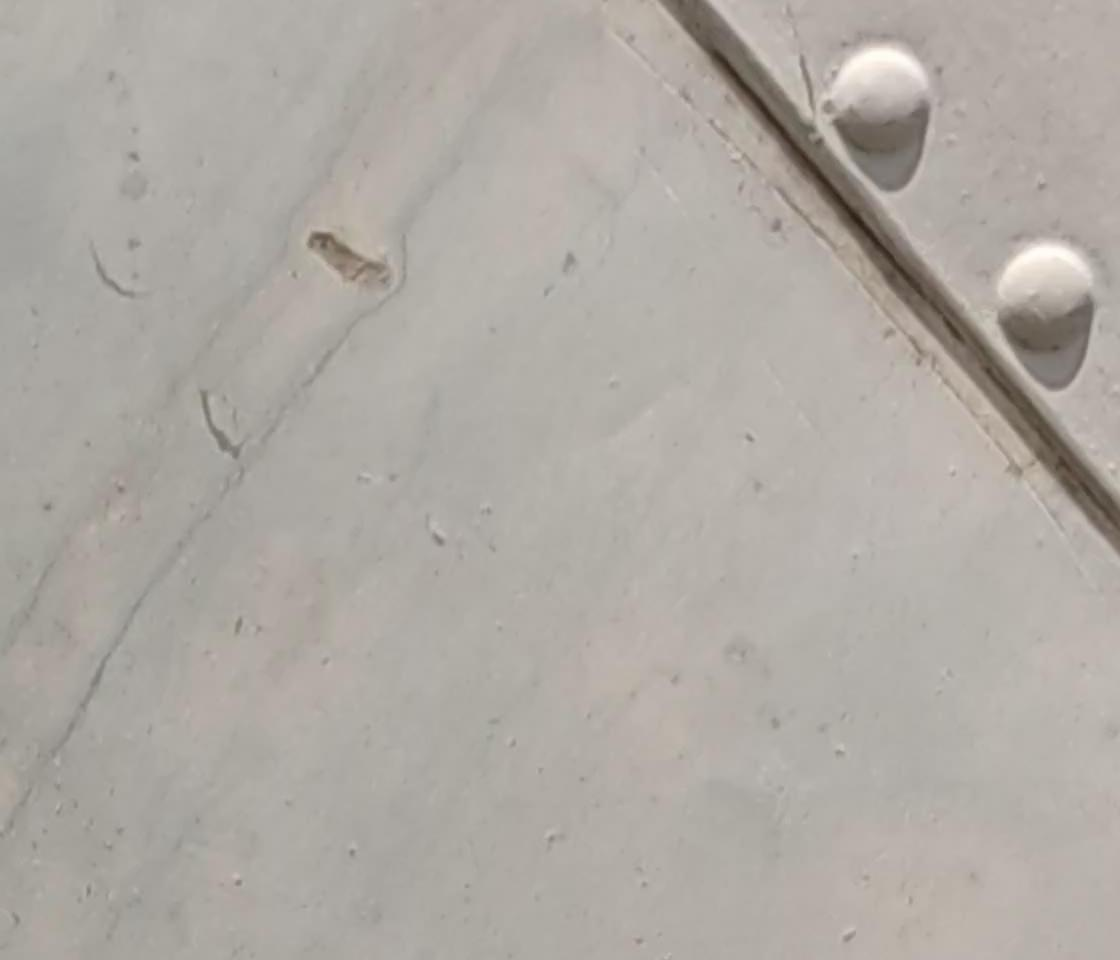scratch: (73, 242, 149, 305), (192, 383, 246, 466)
